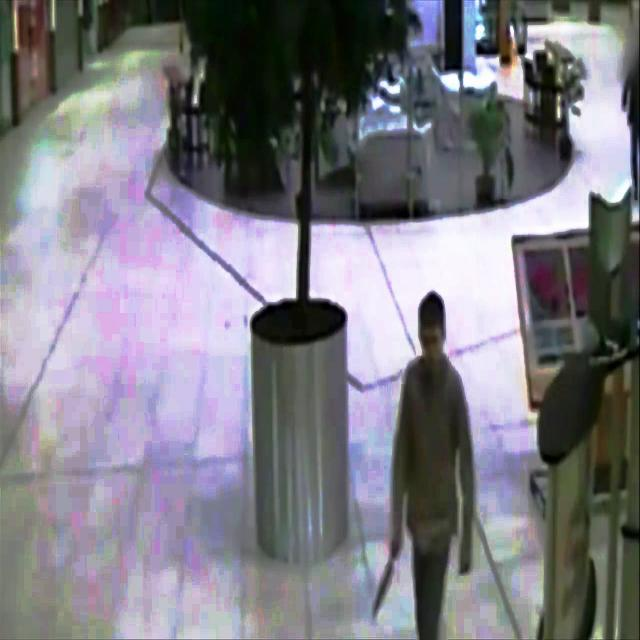Knife: (365, 548, 403, 624)
